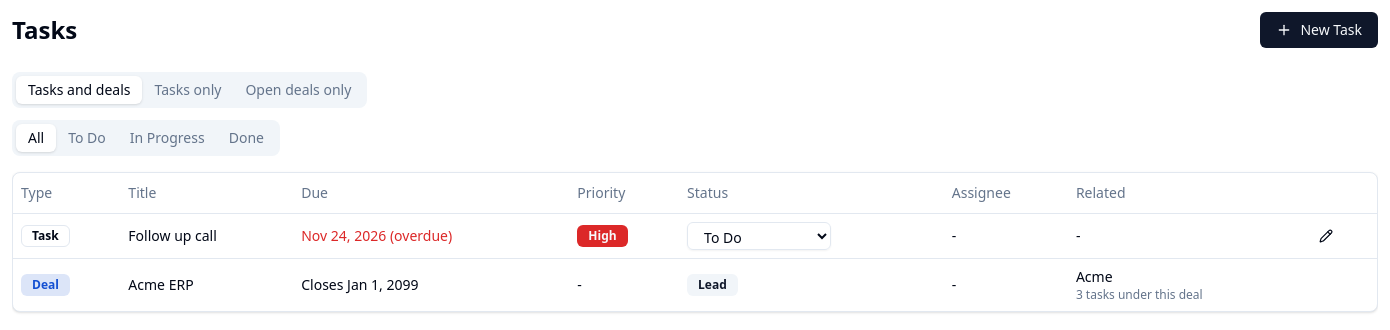
Tasks page with deals in the task family › can show tasks only, or open deals only
The image size is (1390, 330).
Expected: the link "Acme ERP" is shown, [128,274,194,294]
Click the button "Tasks only".
click(188, 90)  # box [142,76,233,104]
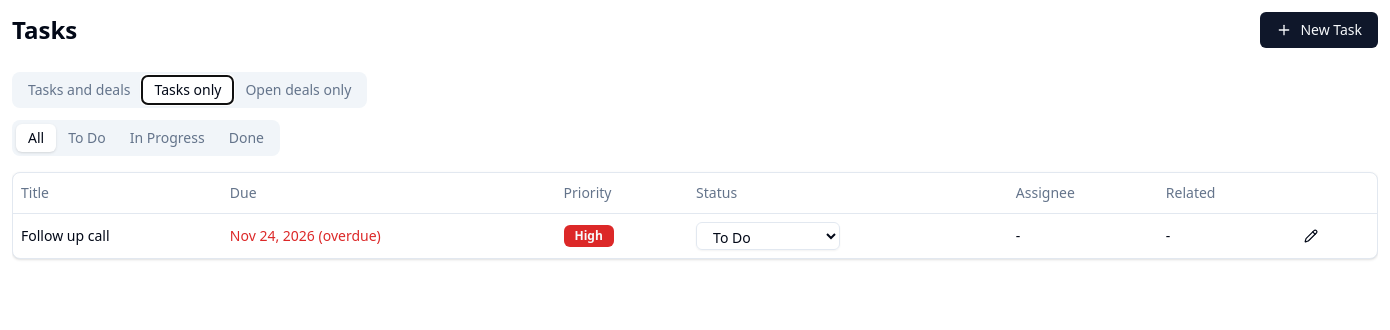
Expected: the text "Follow up call" is shown, [13,213,222,258]
Result: the link "Acme ERP" is gone
Click the button "Open deals only".
click(298, 90)  # box [233,76,363,104]
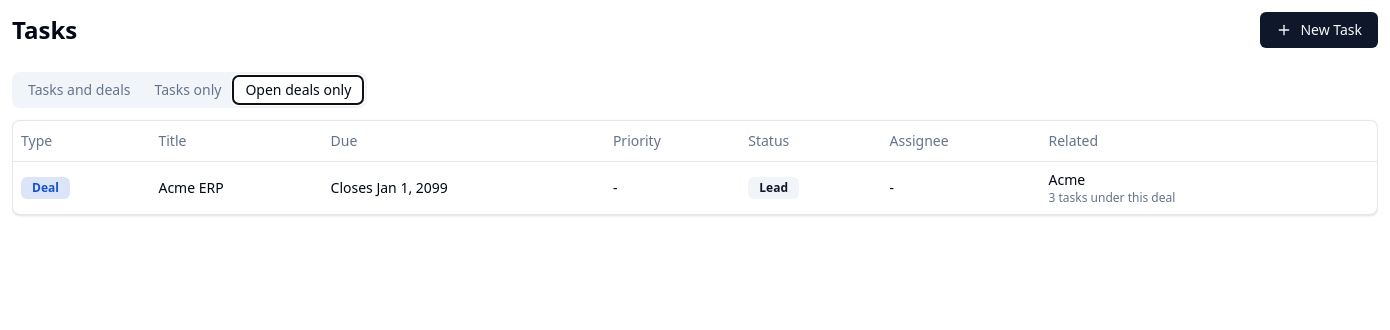
Result: the link "Acme ERP" is shown at [158,178,224,196]
Result: the text "Follow up call" is gone
